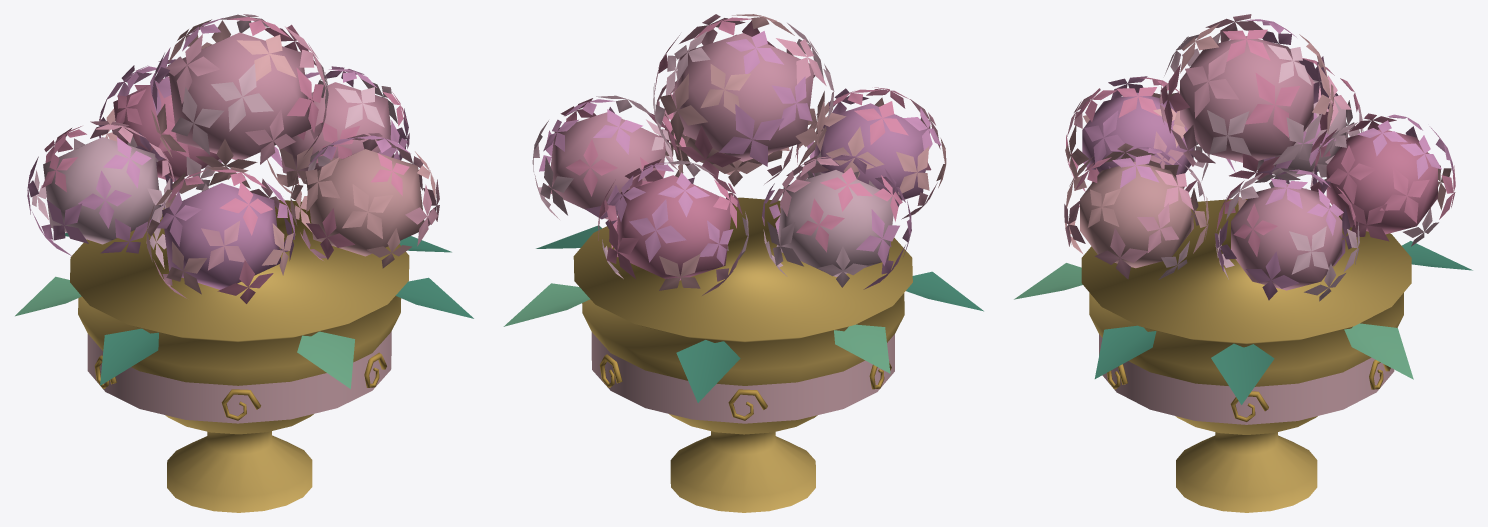
The model's file is vase_hydrangea_pink.glb.
3 renders of one model, left to right at view 1: azimuth 30°, elevation 25°; view 2: azimuth 150°, elevation 25°; view 3: azimuth 270°, elevation 25°, orthographic.
Parts seen in each view (by area): view 1: vase_hydrangea_pink; view 2: vase_hydrangea_pink; view 3: vase_hydrangea_pink.
Boxes of the visible parts, left/top/right/bottom form: vase_hydrangea_pink: left=15, top=14, right=473, bottom=512; vase_hydrangea_pink: left=503, top=14, right=983, bottom=512; vase_hydrangea_pink: left=1014, top=14, right=1472, bottom=512.
Size of what is drawn, in the model's own units: 0.55 by 0.6 by 0.55.
